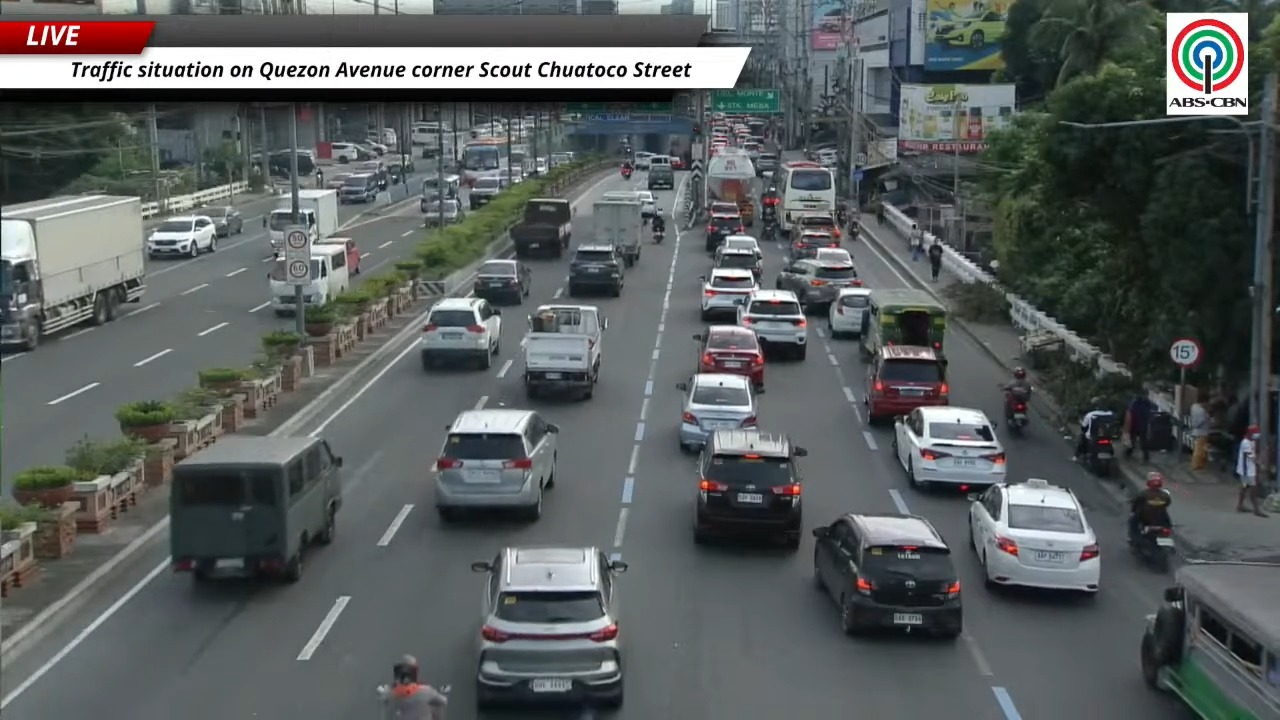bus: (776, 161, 836, 232), (459, 137, 508, 185)
car: (471, 547, 626, 709), (813, 513, 962, 638), (969, 478, 1100, 595), (693, 429, 807, 550), (434, 409, 558, 520), (893, 407, 1006, 492), (864, 345, 949, 423), (677, 373, 758, 452), (419, 297, 500, 370), (737, 289, 806, 360), (693, 325, 764, 392), (775, 259, 861, 312), (700, 267, 757, 320), (567, 244, 625, 296), (146, 215, 216, 258), (933, 11, 1006, 49), (473, 259, 531, 303), (828, 287, 871, 338), (713, 246, 761, 283), (316, 236, 361, 275), (705, 209, 745, 252), (602, 190, 656, 219), (788, 230, 838, 261), (193, 206, 242, 237), (792, 211, 841, 239), (420, 196, 465, 226), (468, 175, 506, 210), (338, 173, 380, 202), (717, 235, 762, 258), (330, 142, 372, 163), (814, 247, 853, 264), (635, 190, 658, 218), (754, 151, 777, 175), (325, 173, 353, 189), (708, 201, 738, 215), (633, 151, 653, 169), (670, 156, 685, 169)
motorcycle: (1128, 526, 1176, 573), (1082, 420, 1118, 477), (1005, 388, 1029, 435), (375, 684, 393, 719), (652, 229, 665, 244), (620, 167, 632, 179)
truck: (0, 195, 145, 350), (523, 305, 606, 398), (706, 149, 755, 226), (509, 198, 572, 257), (591, 199, 643, 266), (297, 189, 339, 242)
